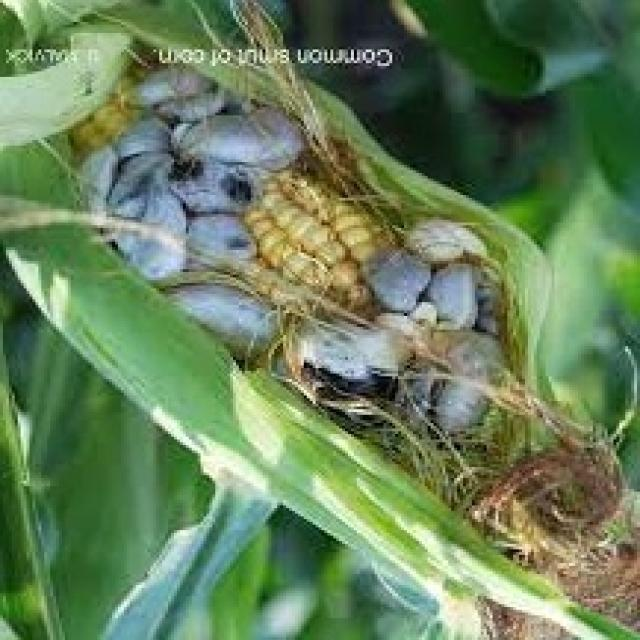Leaf_Scald: (44, 54, 570, 499)
